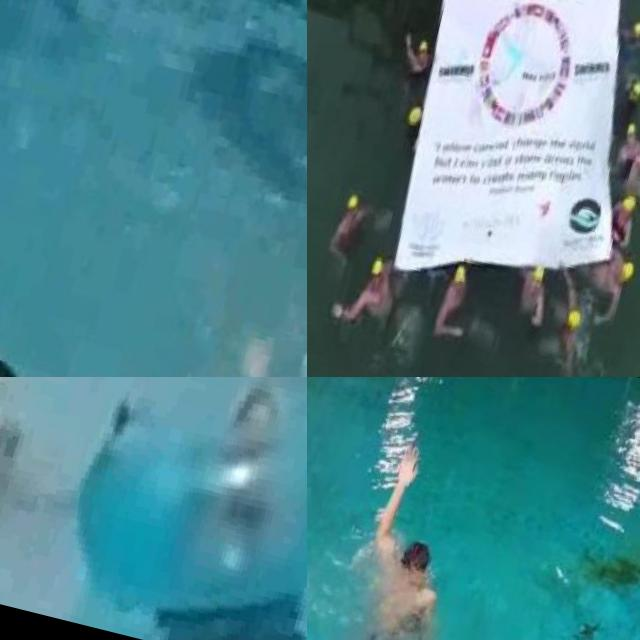drowning: (334, 439, 482, 640), (394, 29, 421, 62)
swimming: (341, 252, 397, 342), (321, 180, 376, 270), (428, 262, 482, 352), (508, 267, 556, 339), (396, 26, 434, 80), (608, 185, 640, 247)
